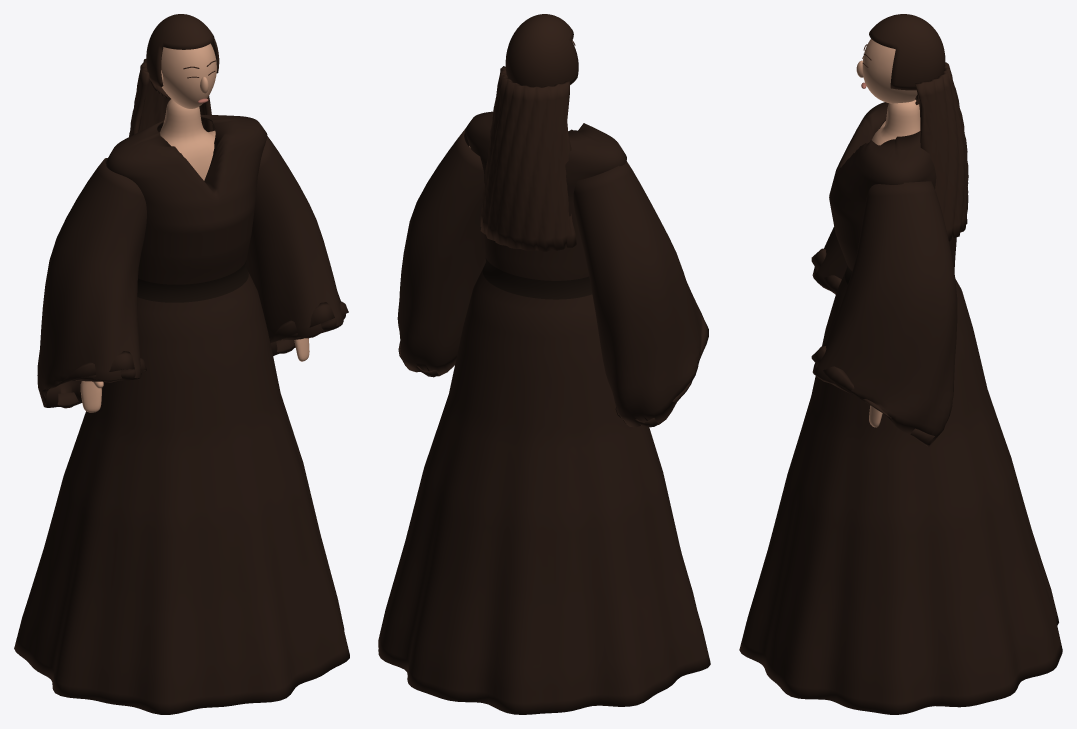
The model's file is kaftan-model-02.glb.
3 views of the same model, side by side, from view 1: azimuth 30°, elevation 25°; view 2: azimuth 150°, elevation 25°; view 3: azimuth 270°, elevation 25° (orthographic).
Parts seen in each view (by area): view 1: Kaftan, Body, Hair; view 2: Kaftan, Hair; view 3: Kaftan, Hair, Body.
Part boxes in pixels (x1=…): Kaftan: x1=14, y1=114, x2=349, y2=714; Body: x1=80, y1=43, x2=309, y2=412; Hair: x1=129, y1=14, x2=219, y2=136; Kaftan: x1=378, y1=111, x2=710, y2=714; Hair: x1=480, y1=14, x2=578, y2=251; Kaftan: x1=739, y1=102, x2=1062, y2=714; Hair: x1=869, y1=14, x2=968, y2=241; Body: x1=856, y1=39, x2=920, y2=427.
Size of the model in its own units: 0.8384 by 1.75 by 0.7988.
5 materials, 5 textured.
